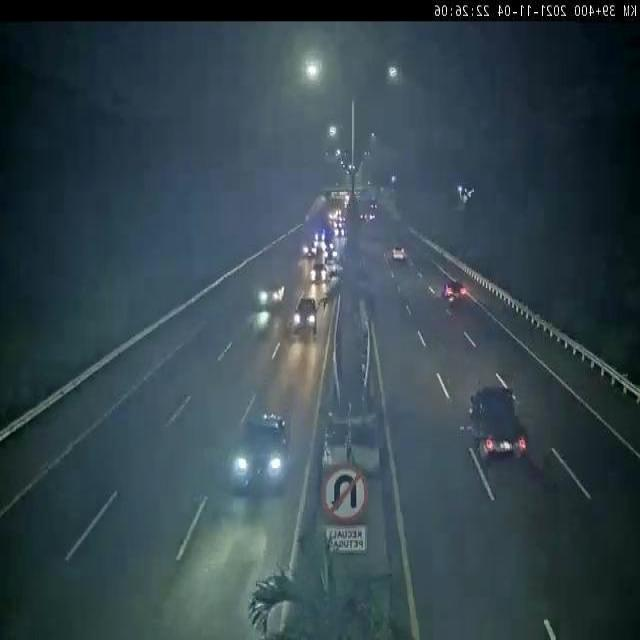Car: (218, 391, 300, 513), (467, 378, 530, 469), (252, 272, 293, 315), (289, 294, 323, 336), (441, 278, 470, 310), (390, 239, 412, 268), (308, 260, 329, 286), (299, 238, 321, 262), (322, 242, 339, 265)
